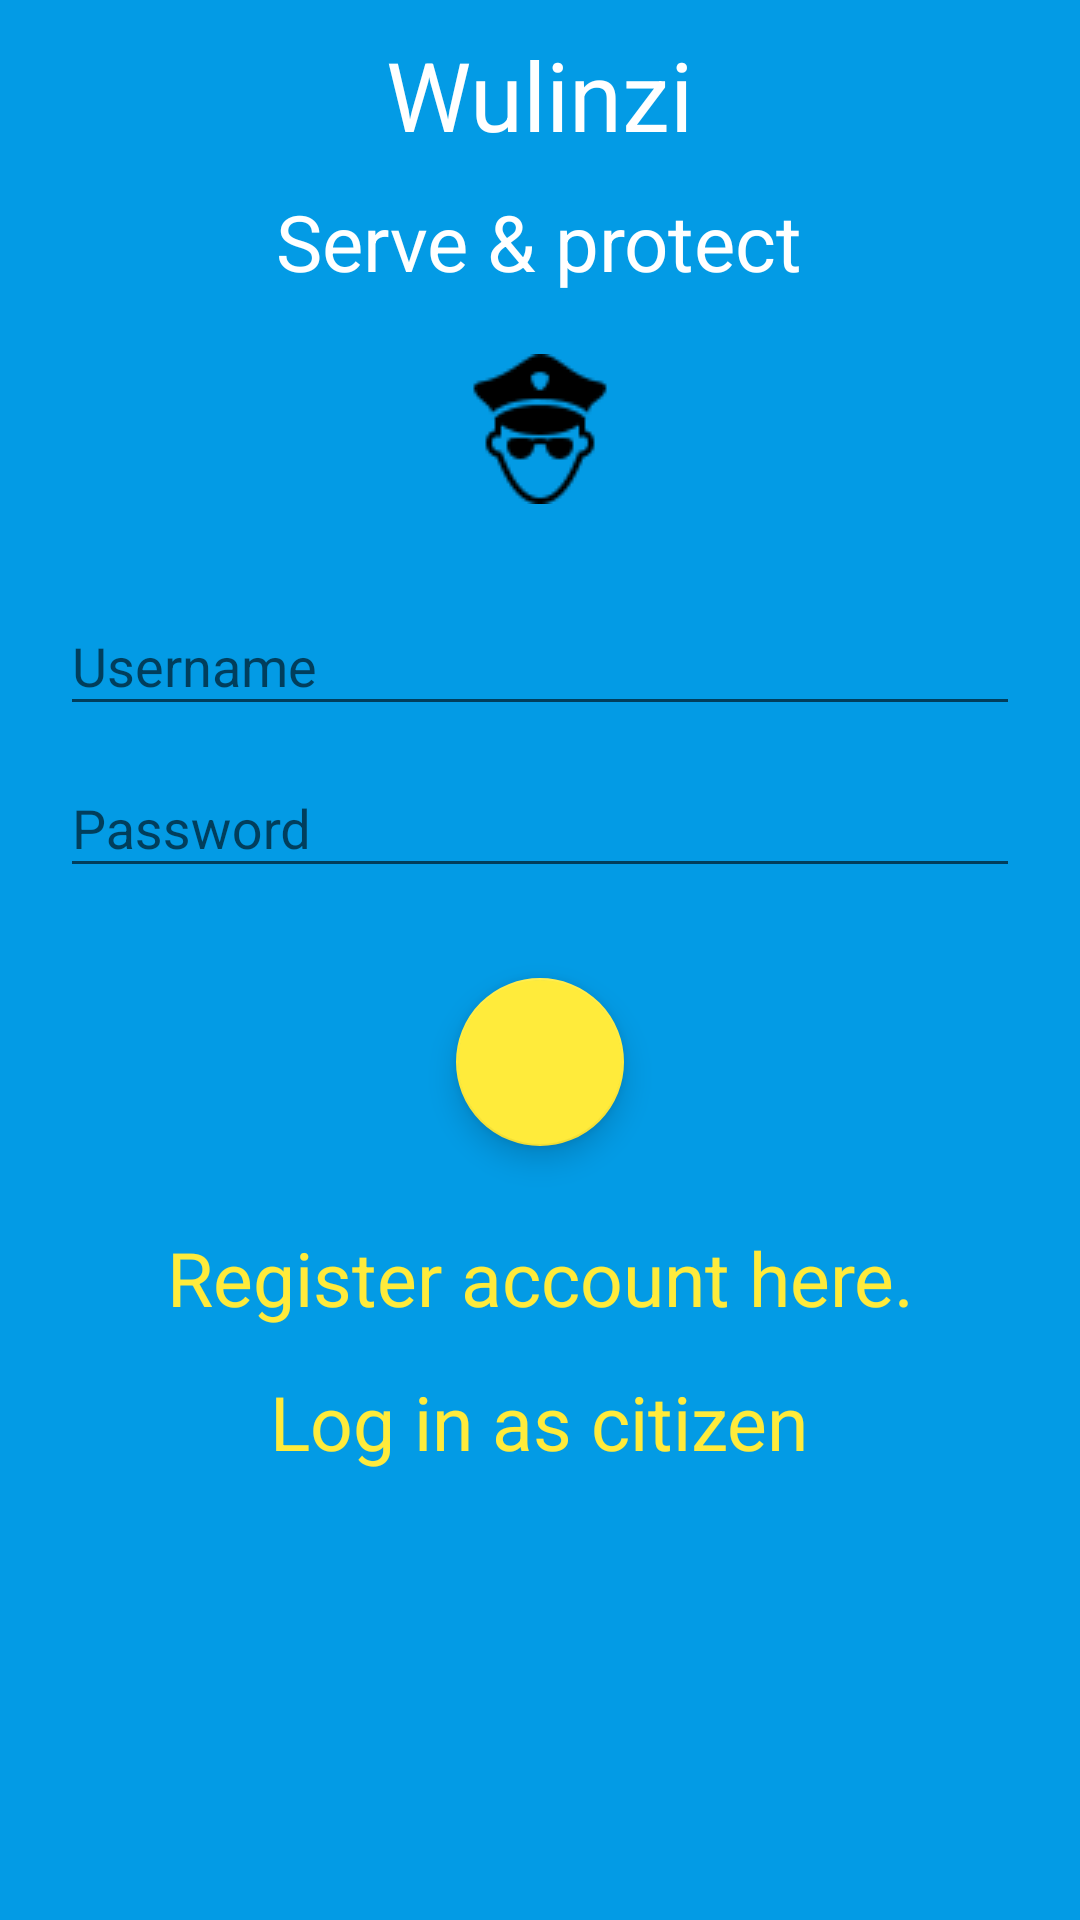

Icon click points for this 1080x1920 phone screenshot, format (x=x, y=y):
police man: (x=540, y=429)
